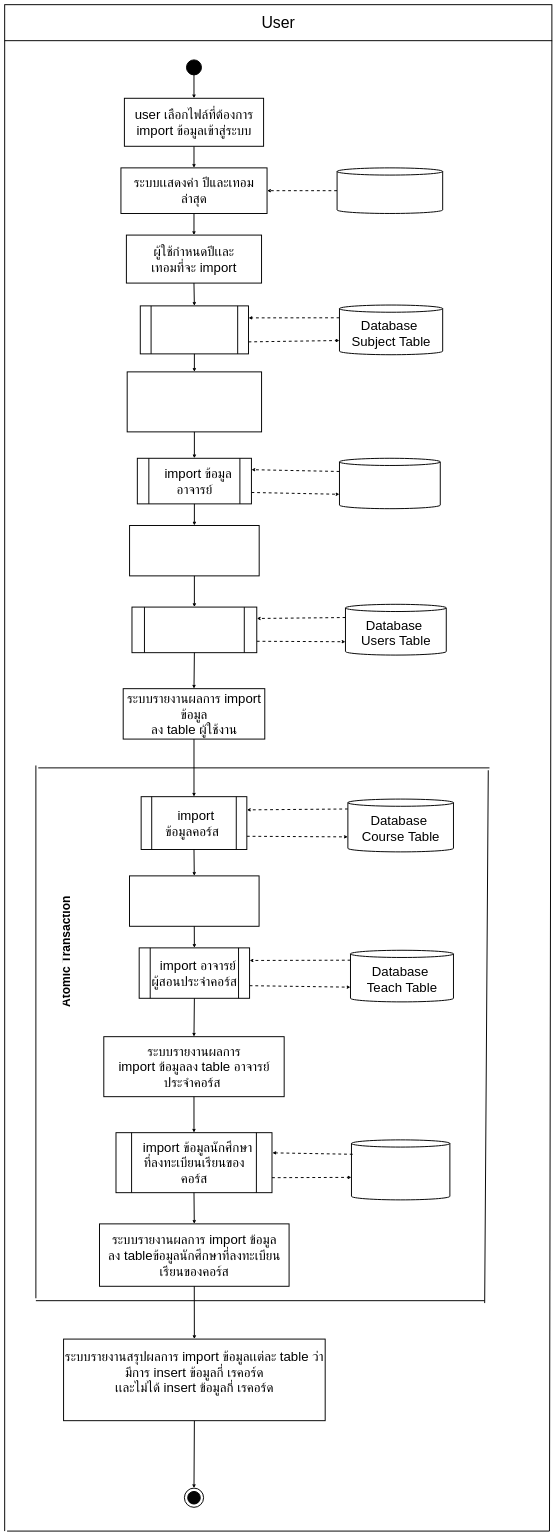
Some shapes in this 557 by 1536 pixel diagram are drawn without their labels. The centre of each missing label's shape, as x and y in pixels:
"Database Calendar Table" goes at (389,190).
"Database Lecturer Table" goes at (390,483).
"Database std_reg_course" goes at (400,1169).
"import ข้อมูล ผู้ใช้งาน" goes at (194,629).
"import ข้อมูลวิชา" goes at (194,329).
"ระบบรายงานผลการ import ข้อมูล ลง table คอร์ส" goes at (194,901).
"ระบบรายงานผลการ import ข้อมูล ลง table วิชา" goes at (194,401).
"ระบบรายงานผลการ import ข้อมูล ลง table อาจารย์" goes at (194,550).
